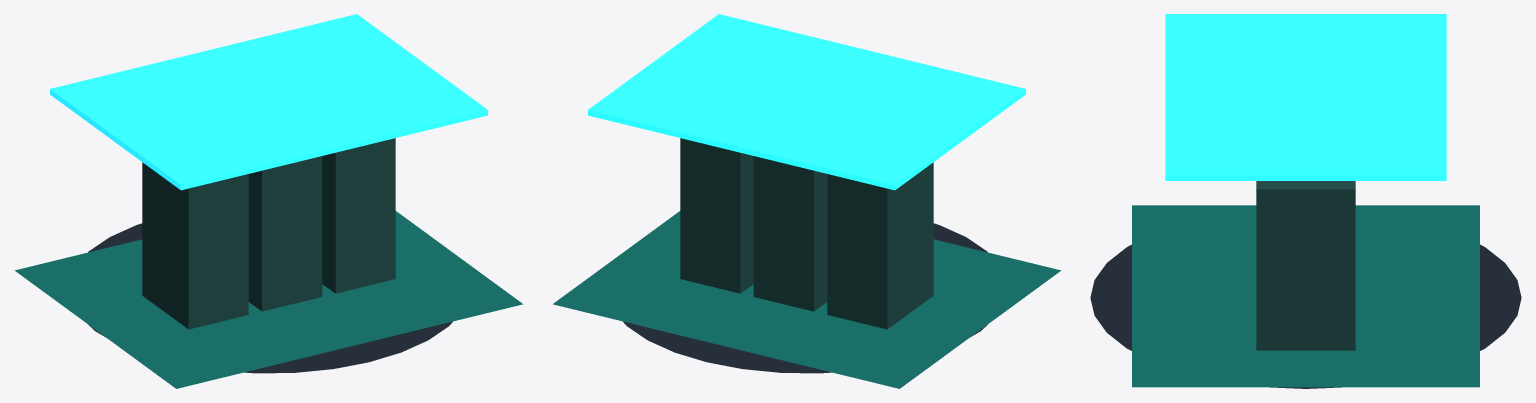
File: market.glb
3 renders of one model, left to right at view 1: azimuth 30°, elevation 25°; view 2: azimuth 150°, elevation 25°; view 3: azimuth 270°, elevation 25°, orthographic. The views are drawn at different scales.
Visible parts, largest first — view 1: market; view 2: market; view 3: market.
Part boxes in pixels (bbox=[...]): market: bbox=[14, 14, 522, 388]; market: bbox=[553, 14, 1061, 388]; market: bbox=[1090, 14, 1521, 388].
Size of the model in its own units: 5.21 by 2.74 by 5.21.
